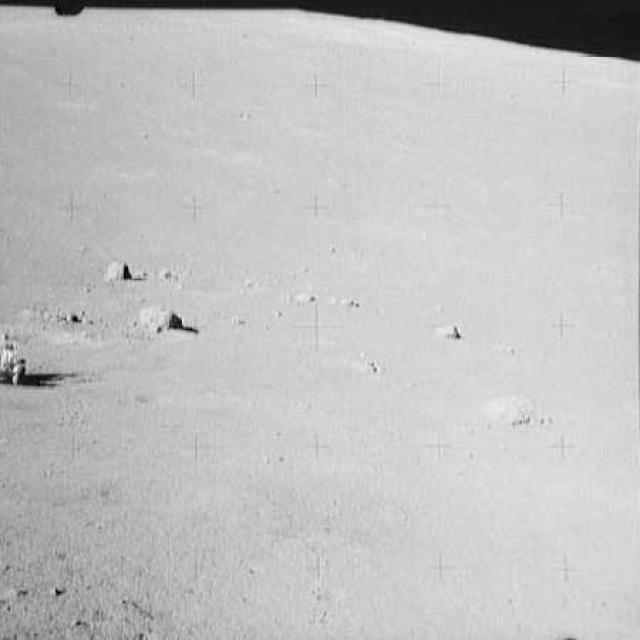artifact: (0, 316, 41, 386)
rock: (493, 392, 542, 426), (139, 306, 193, 336), (103, 250, 142, 290), (435, 317, 473, 342), (356, 352, 380, 380), (286, 288, 322, 306), (340, 294, 362, 308)
